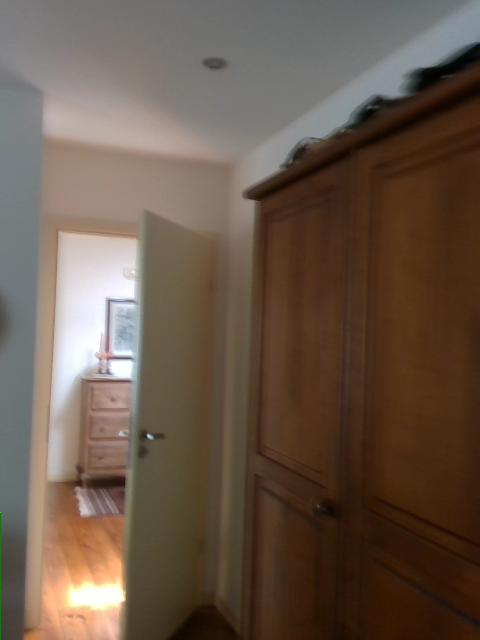semi_door: (25, 203, 218, 639)
